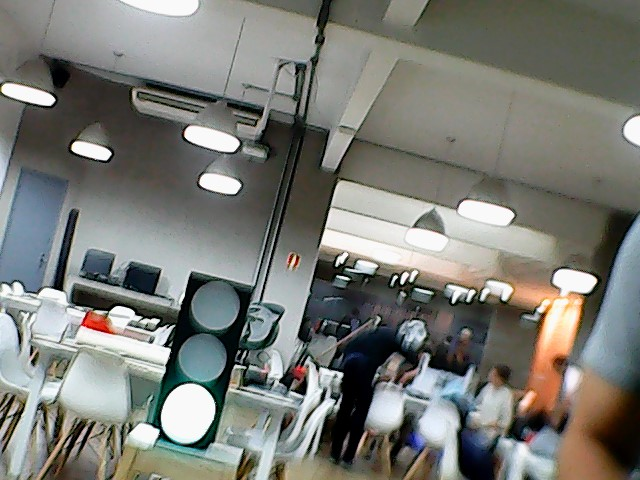verde: (132, 263, 258, 459)
